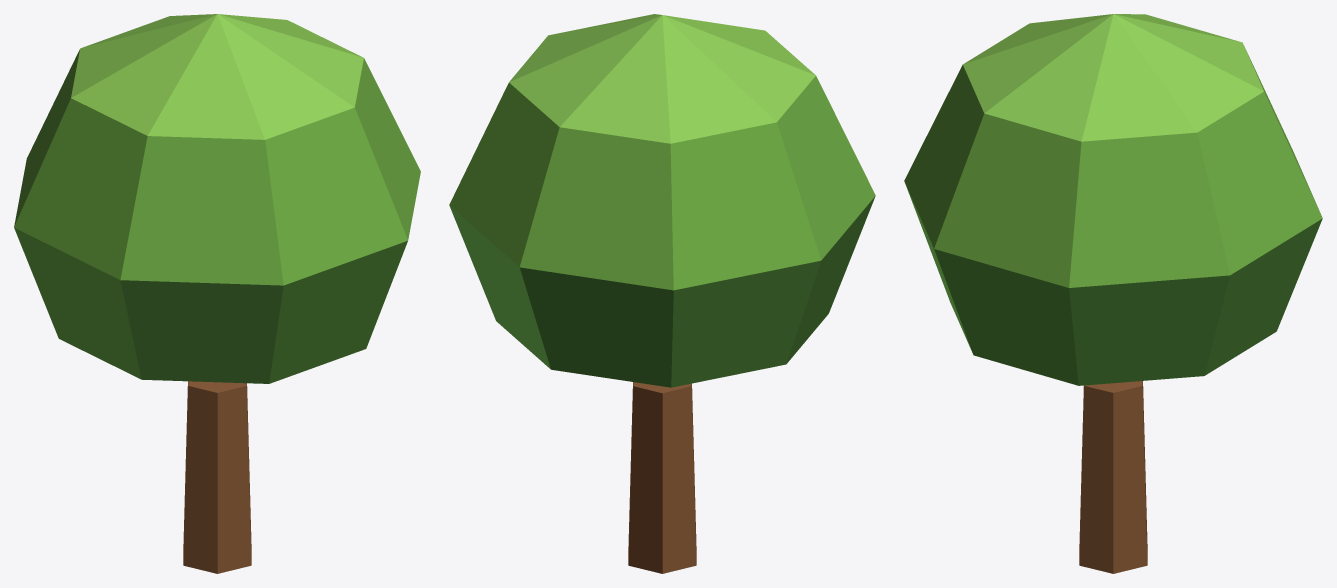
File: tree_fat.glb
3 views of the same model, side by side, from view 1: azimuth 30°, elevation 25°; view 2: azimuth 150°, elevation 25°; view 3: azimuth 270°, elevation 25° (orthographic).
Visible parts, largest first — view 1: tree_fat; view 2: tree_fat; view 3: tree_fat.
Boxes of the visible parts, x1,y1,x2,y2 form: tree_fat: (14,14,420,573); tree_fat: (449,14,875,573); tree_fat: (904,14,1322,573).
Size of the model in its own units: 0.7435 by 1.06 by 0.7435.
1 material, 1 textured.
